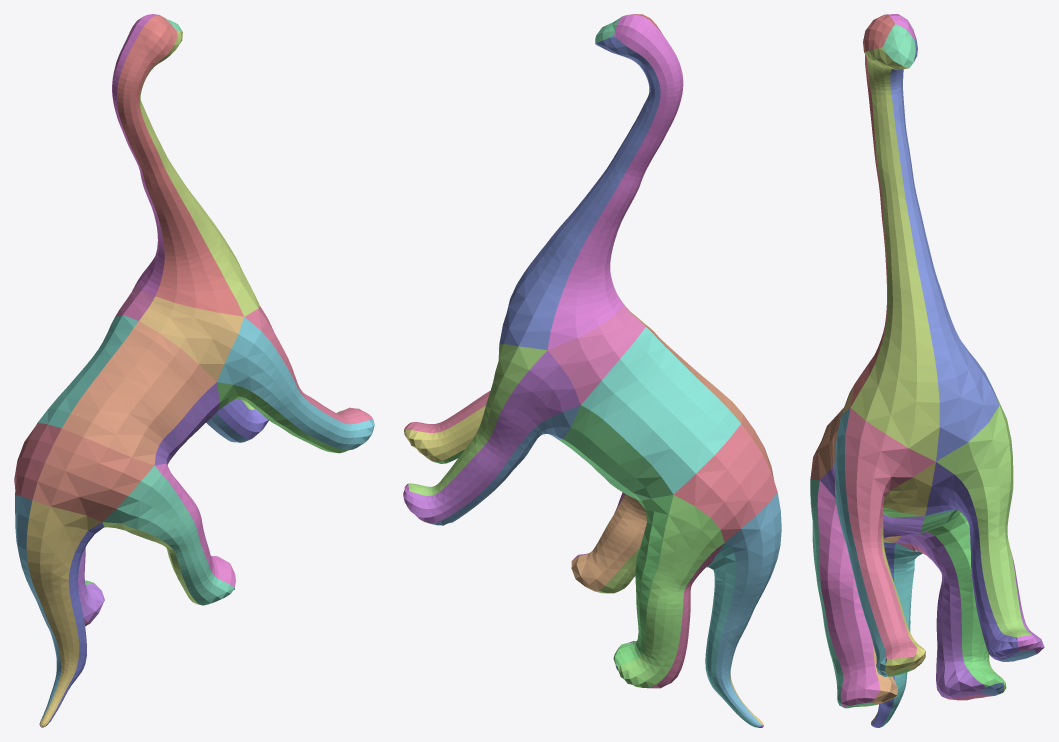
The model's file is 12_dinosaur_output.obj.
The picture shows the model from 3 angles, left to right: view 1: azimuth 30°, elevation 25°; view 2: azimuth 150°, elevation 25°; view 3: azimuth 270°, elevation 25°; orthographic projection. The views are drawn at different scales.
Bounding box in the file's own units: 1.36 × 2.47 × 0.6749.
